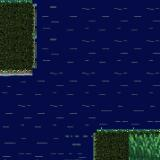Interaction: (87, 122, 160, 142), (87, 122, 105, 160)
Slow: (92, 0, 160, 129), (0, 77, 92, 160), (36, 0, 92, 77), (129, 133, 160, 160)
